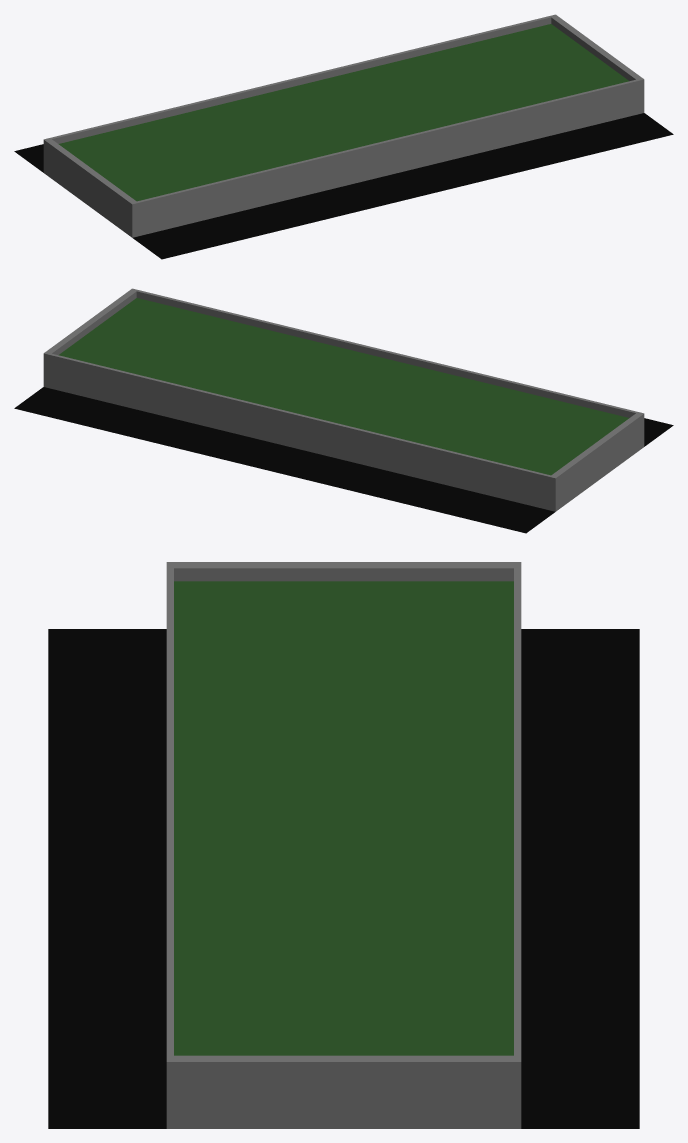
File: Mediana.fbx
The picture shows the model from 3 angles, top to bottom: view 1: azimuth 30°, elevation 25°; view 2: azimuth 150°, elevation 25°; view 3: azimuth 270°, elevation 25°; orthographic projection. The views are drawn at different scales.
Parts seen in each view (by area): view 1: Mediana; view 2: Mediana; view 3: Mediana.
Part boxes in pixels (x1,y1,x2,y2): Mediana: [14, 14, 673, 259]; Mediana: [14, 288, 673, 533]; Mediana: [48, 562, 639, 1128].
Size of the model in its own units: 1600 by 100 by 800.
